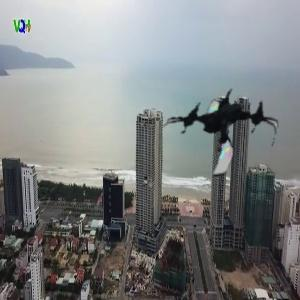drone: (168, 74, 278, 184)
